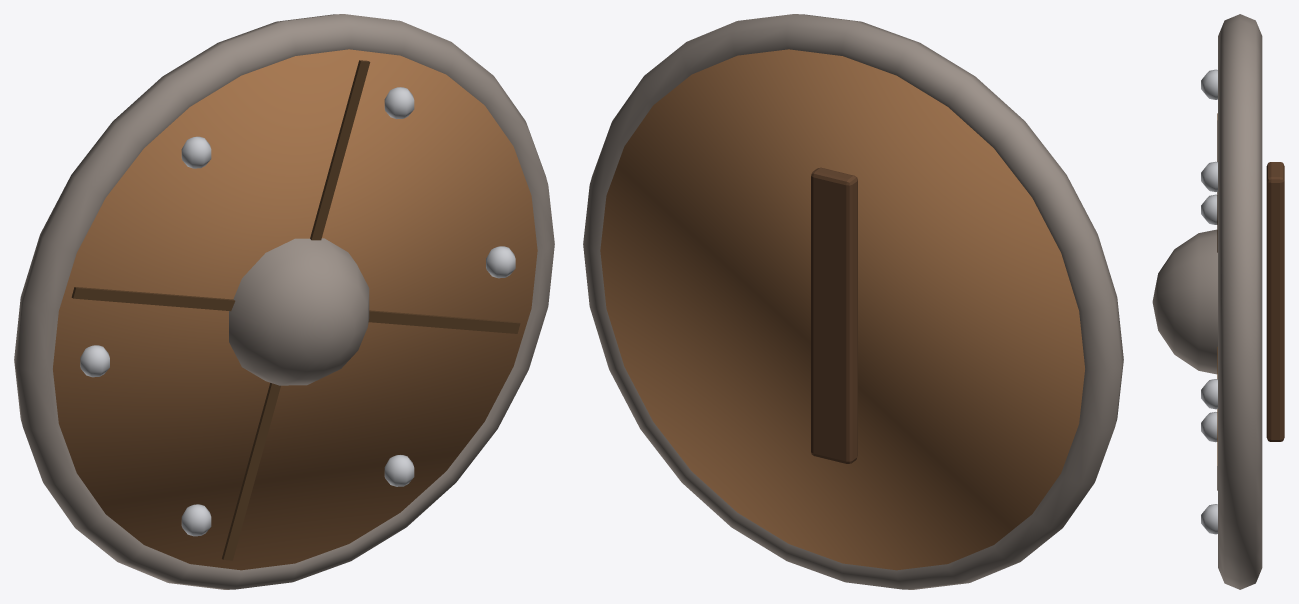
File: light-shield.glb
3 views of the same model, side by side, from view 1: azimuth 30°, elevation 25°; view 2: azimuth 150°, elevation 25°; view 3: azimuth 270°, elevation 25° (orthographic). The views are drawn at different scales.
Visible parts, largest first — view 1: light-shield; view 2: light-shield; view 3: light-shield.
Part boxes in pixels (x1,y1,x2,y2): light-shield: (14, 14, 554, 589); light-shield: (583, 14, 1123, 589); light-shield: (1152, 14, 1284, 589).
Size of the model in its own units: 1.3 by 1.3 by 0.298.
